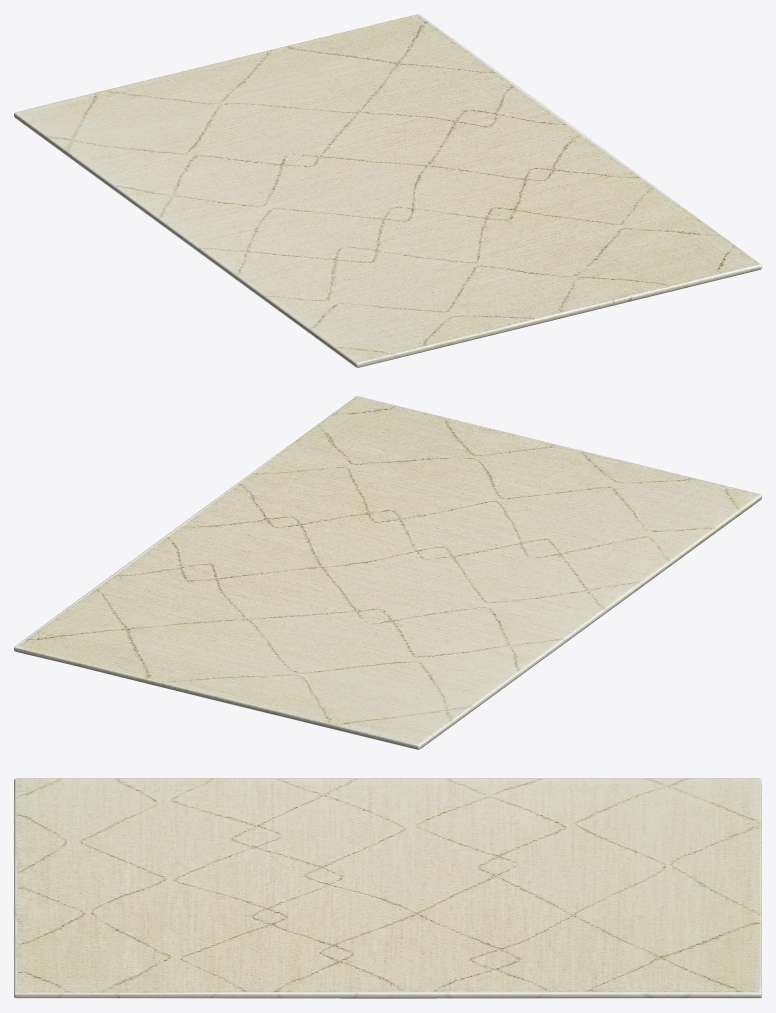
File: tversted-alfombra-pelo-corto.glb
3 views of the same model, one above another, from view 1: azimuth 30°, elevation 25°; view 2: azimuth 150°, elevation 25°; view 3: azimuth 270°, elevation 25° (orthographic). The views are drawn at different scales.
Parts seen in each view (by area): view 1: Mesh_0; view 2: Mesh_0; view 3: Mesh_0.
Part boxes in pixels (box(x1,y1,x2,y2)): Mesh_0: box(14, 14, 761, 367); Mesh_0: box(14, 396, 761, 749); Mesh_0: box(14, 778, 761, 998).
Size of the model in its own units: 1.33 by 0.0159 by 1.95.
1 material, 1 textured.
